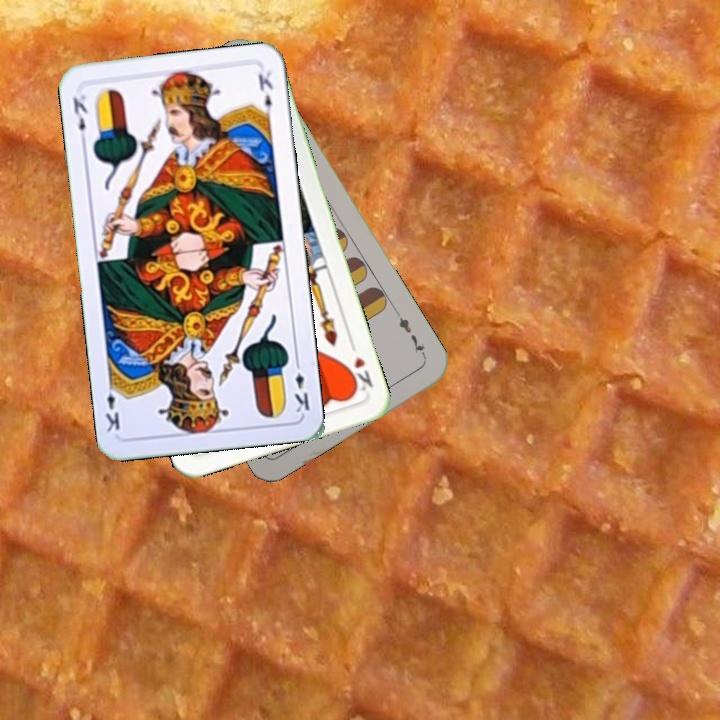E7: (394, 312, 429, 361)
EK: (68, 90, 90, 147), (291, 356, 312, 415)
HK: (343, 337, 376, 395)
